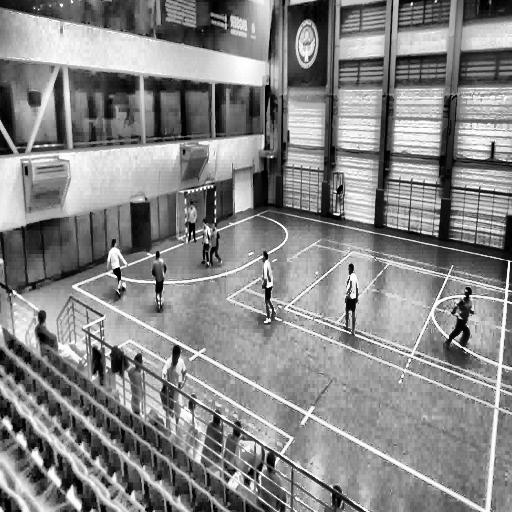ball: (120, 280, 127, 294)
player: (160, 343, 186, 430), (443, 286, 474, 354), (342, 261, 359, 333), (107, 238, 127, 298), (261, 250, 275, 324), (152, 250, 166, 311), (208, 220, 222, 268), (199, 217, 210, 271), (186, 200, 198, 244)
